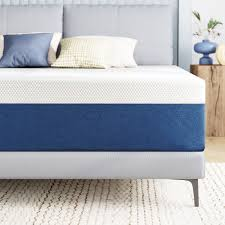bed-matress: (1, 61, 206, 152)
